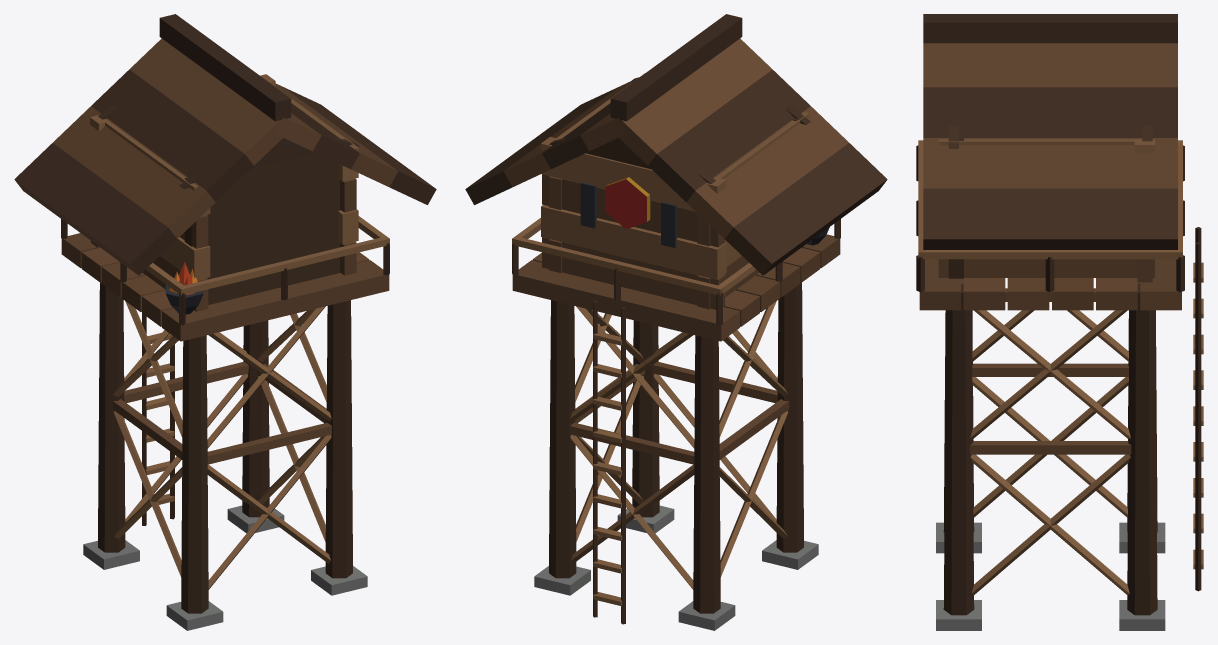
Rendered from Decor_VikingLonghouse_Watchtower.fbx.
3 renders of one model, left to right at view 1: azimuth 30°, elevation 25°; view 2: azimuth 150°, elevation 25°; view 3: azimuth 270°, elevation 25°, orthographic. The views are drawn at different scales.
Visible parts, largest first — view 1: Watchtower_Body; view 2: Watchtower_Body; view 3: Watchtower_Body.
Boxes of the visible parts, <box> form: Watchtower_Body: <box>14,14,436,630</box>; Watchtower_Body: <box>465,14,887,630</box>; Watchtower_Body: <box>916,14,1203,630</box>.
Size of the model in its own units: 15.28 by 24.4 by 11.25.
